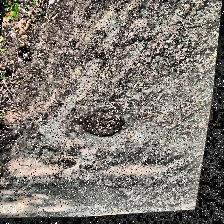pothole: (70, 100, 136, 146)
